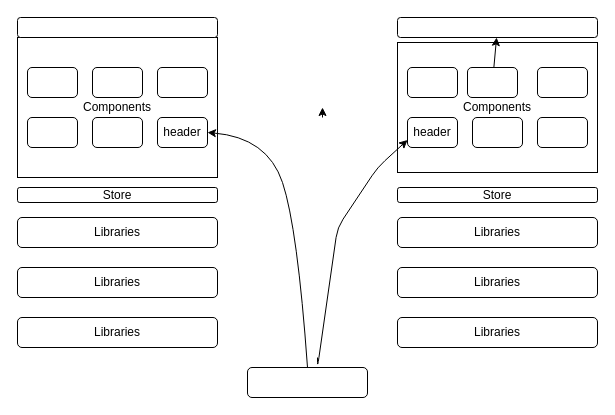
Image size: 615x415. Some labels were removed from this diagram. The box of each missing label's shape, as (x1, y1, x2, y2) in pixels:
Library: (246, 366, 368, 398)
Project 1: (16, 16, 218, 38)
Project 2: (396, 16, 598, 38)
